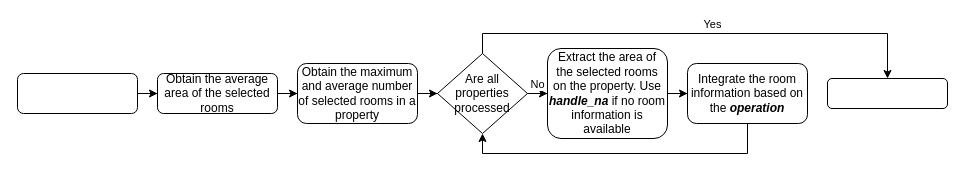
This 965x179 diagram has some shape labels left out. The centre of each missing label's shape, as x and y in pixels:
Return the result: pixel 887 93
Select all the room names that contain keywords ( args ): pixel 77 93
